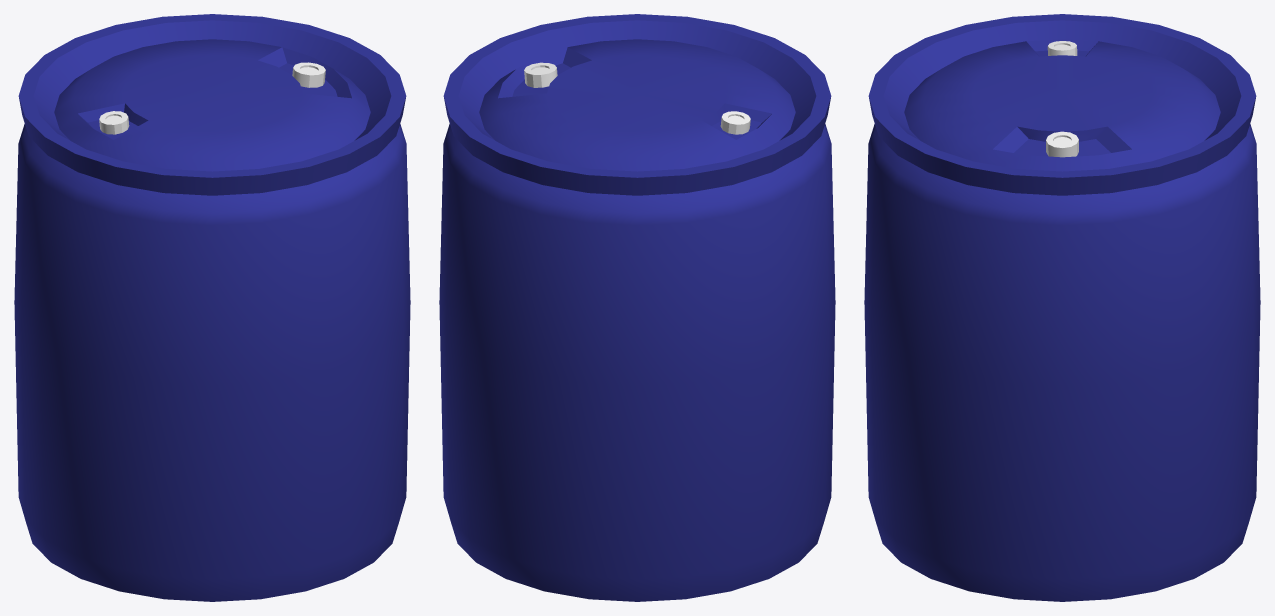
The model's file is context 2 this barrel.fbx.
3 views of the same model, side by side, from view 1: azimuth 30°, elevation 25°; view 2: azimuth 150°, elevation 25°; view 3: azimuth 270°, elevation 25° (orthographic).
Visible parts, largest first — view 1: BARREL; view 2: BARREL; view 3: BARREL.
Part boxes in pixels (bbox=[...]): BARREL: bbox=[14, 14, 410, 601]; BARREL: bbox=[439, 14, 835, 601]; BARREL: bbox=[864, 14, 1260, 601].
Bounding box in the file's own units: 0.0228 × 0.0273 × 0.0226.
